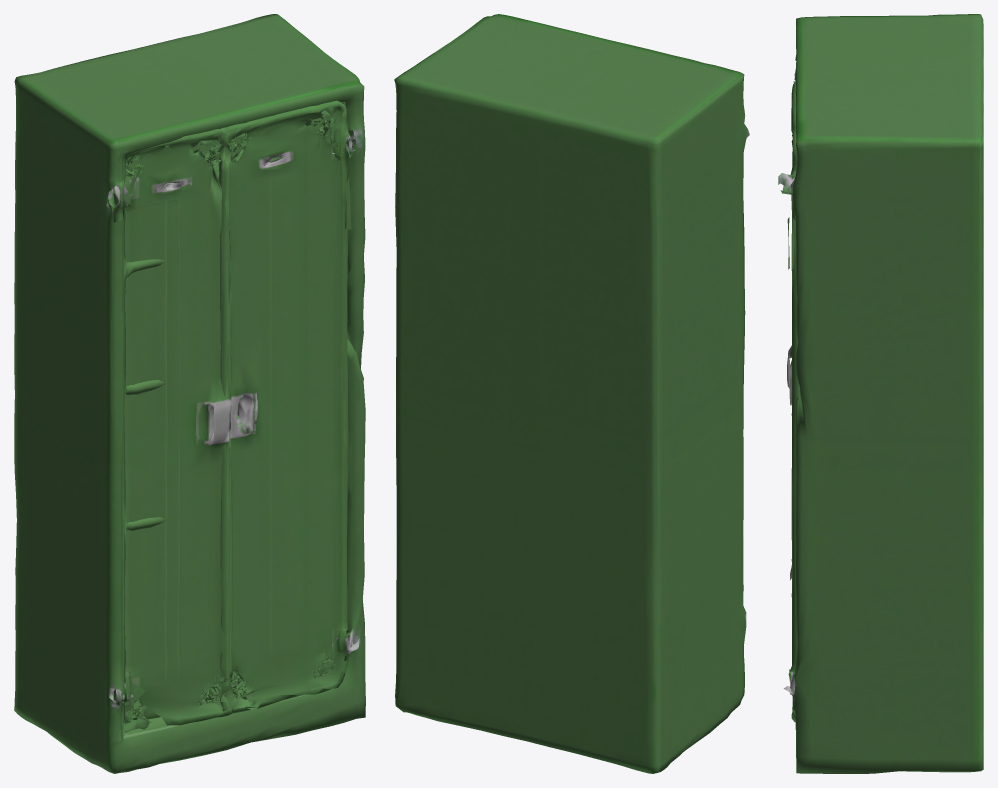
Rendered from GreenCabinet.fbx.
The picture shows the model from 3 angles, left to right: view 1: azimuth 30°, elevation 25°; view 2: azimuth 150°, elevation 25°; view 3: azimuth 270°, elevation 25°; orthographic projection.
Visible parts, largest first — view 1: tripo_node_5fa9842a, tripo_node_5fa9842a.001, tripo_node_5fa9842a.002; view 2: tripo_node_5fa9842a; view 3: tripo_node_5fa9842a, tripo_node_5fa9842a.001.
Part boxes in pixels (bbox=[...]): tripo_node_5fa9842a: bbox=[14, 14, 365, 773]; tripo_node_5fa9842a.001: bbox=[217, 100, 359, 713]; tripo_node_5fa9842a.002: bbox=[108, 127, 232, 732]; tripo_node_5fa9842a: bbox=[394, 14, 749, 773]; tripo_node_5fa9842a: bbox=[787, 14, 983, 773]; tripo_node_5fa9842a.001: bbox=[778, 82, 798, 722].
Size of the model in its own units: 42.46 by 97.78 by 28.67.
1 material, 1 textured.
